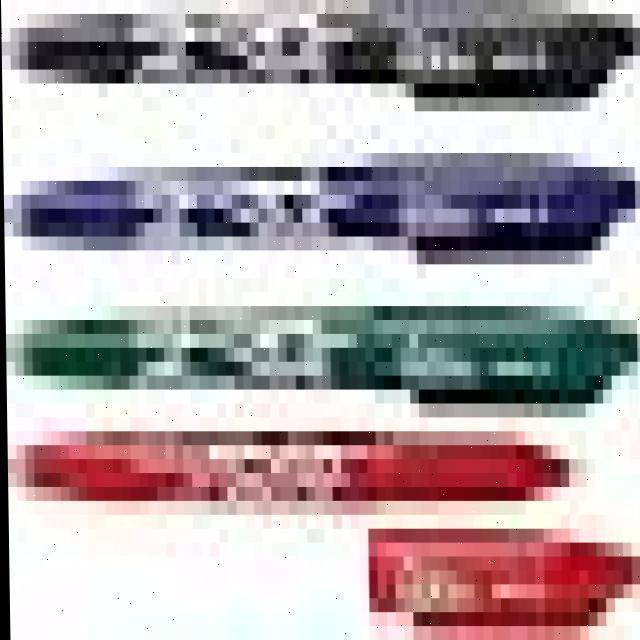Pen - Non Recyclable: (9, 0, 640, 626)
